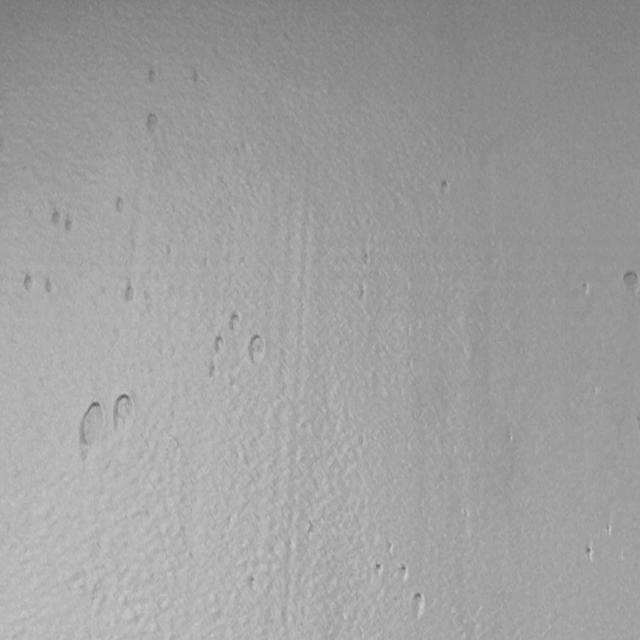pin holes: (77, 400, 111, 452), (111, 393, 138, 427), (243, 333, 267, 366), (619, 269, 640, 299), (144, 114, 164, 139), (120, 280, 138, 306), (411, 590, 426, 618), (576, 280, 595, 302), (144, 67, 162, 90), (48, 210, 66, 232), (227, 311, 244, 334), (210, 333, 227, 356), (187, 62, 202, 88), (114, 194, 130, 216), (21, 272, 36, 294), (438, 180, 454, 200), (583, 544, 597, 564), (361, 247, 374, 268), (356, 282, 369, 302), (62, 218, 76, 236), (44, 280, 58, 298), (399, 564, 410, 586), (245, 575, 258, 592), (209, 362, 221, 380), (602, 521, 615, 537), (385, 541, 395, 557), (374, 562, 384, 576)
